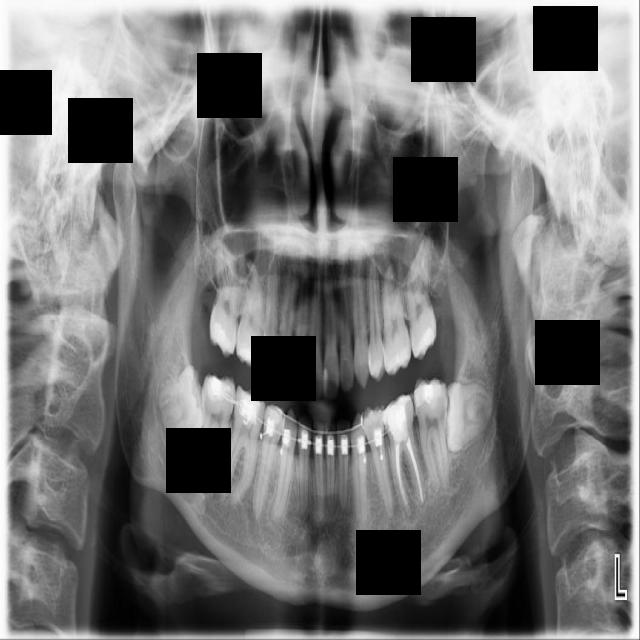52: (382, 392, 415, 447)
73: (386, 433, 432, 515), (565, 519, 573, 537)
BioHorizons Implant: (402, 238, 438, 362)
Biomet 3i Implant: (443, 381, 491, 453)
Blue Sky Bio Implant: (413, 376, 450, 495)
Caries: (208, 248, 242, 358)
Implant: (195, 373, 236, 494)
Keystone Dental Implant: (151, 362, 214, 441)
